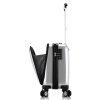luggage: (30, 0, 74, 98)
